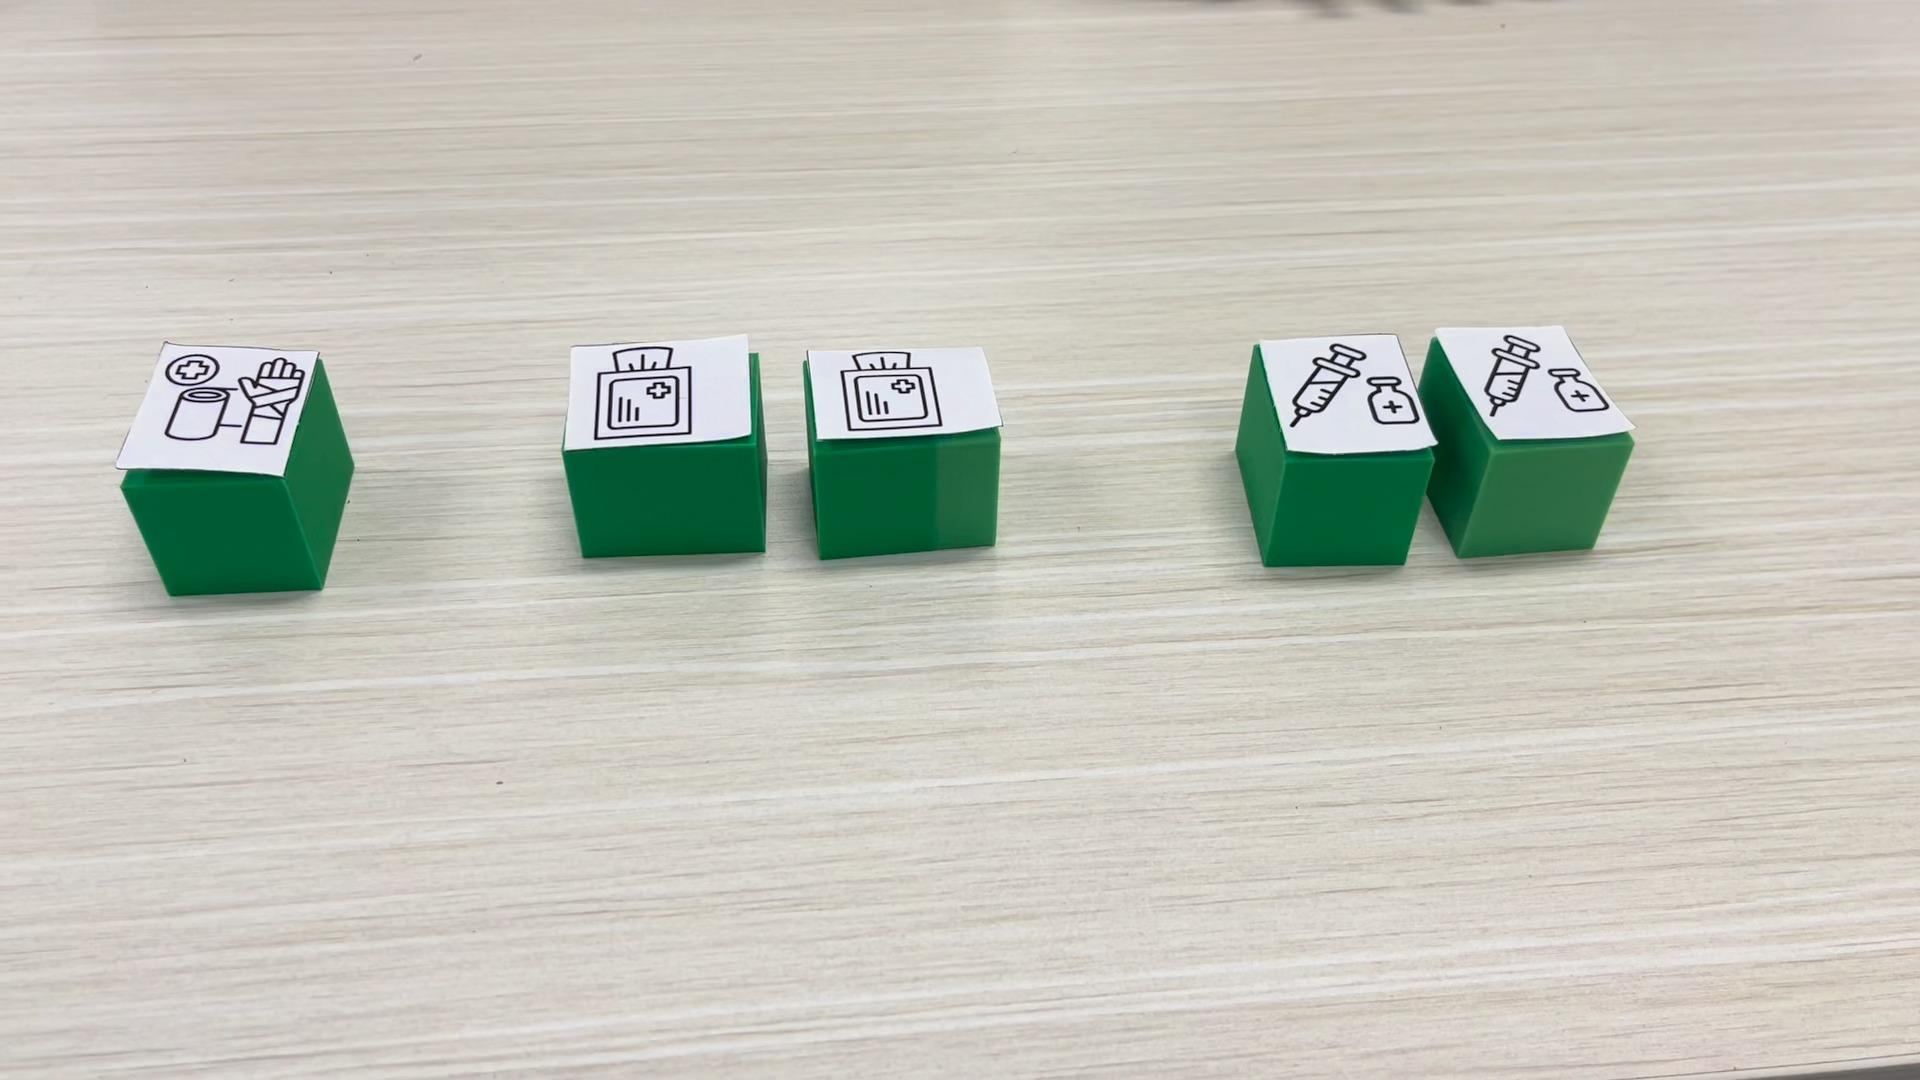Bandages: (116, 340, 353, 597)
Gauze: (560, 334, 767, 556), (803, 343, 1004, 560)
antiseptic cream: (1419, 320, 1635, 560), (1236, 332, 1440, 570)
